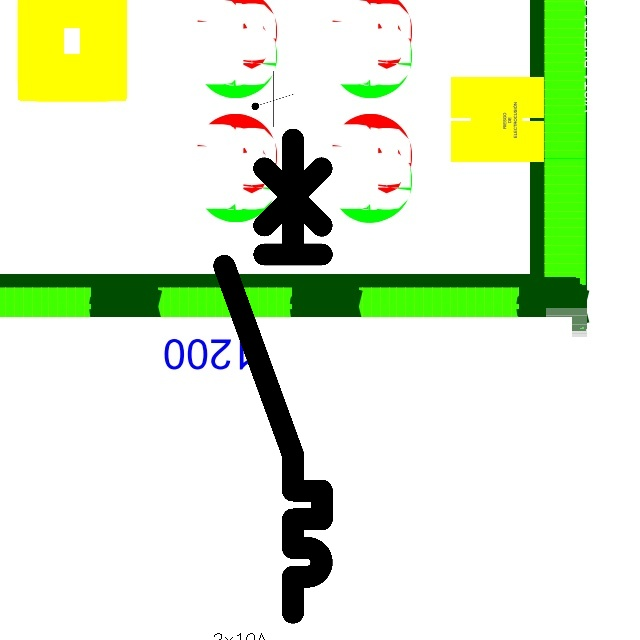interruptor_termomagnetico: (212, 127, 334, 625)
